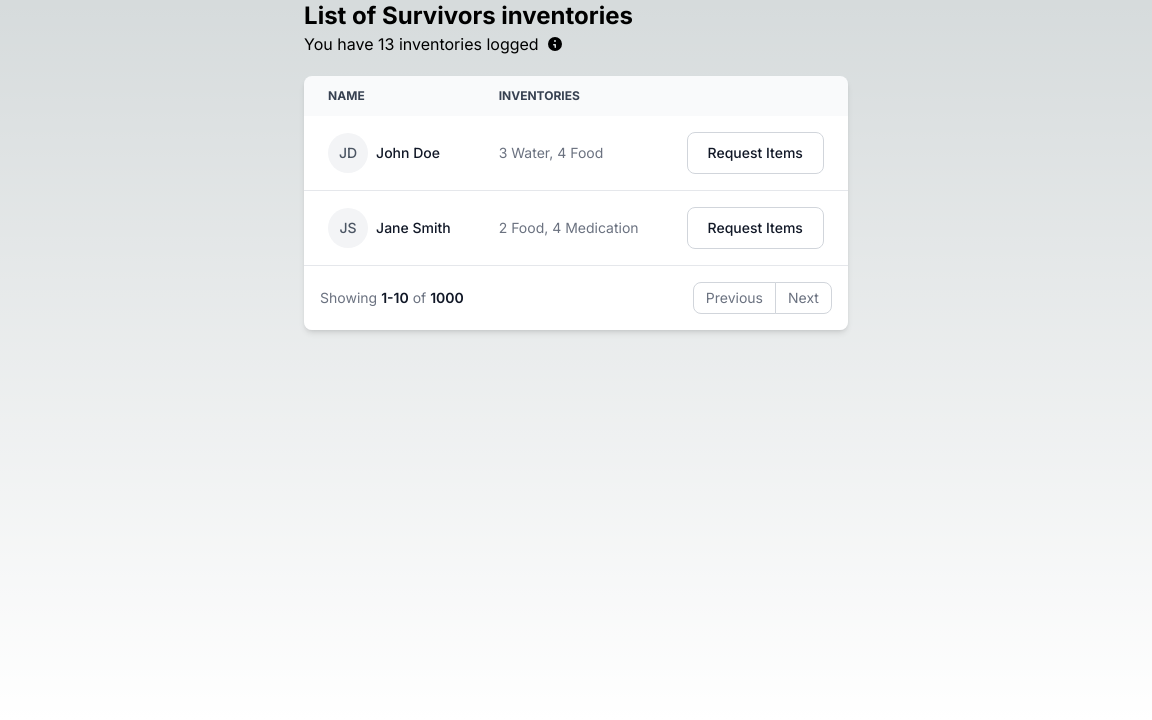
InventoryList › opens the request item modal when "Request Items" button is clicked
Click the 1st button "Request Items" at (755,153), box 687,132 -> 824,174
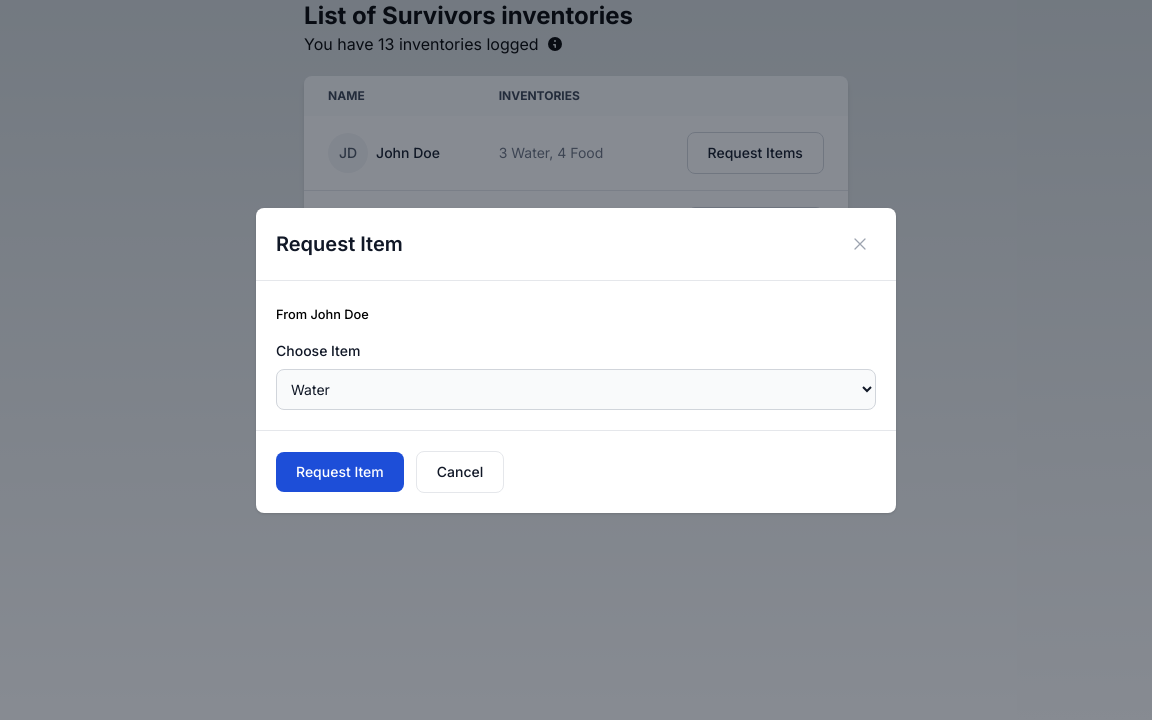
Expected: the text "From John Doe" is shown, 276,306 -> 369,322
Expected: the dropdown labelled "Choose Item" is shown, 276,368 -> 876,410
